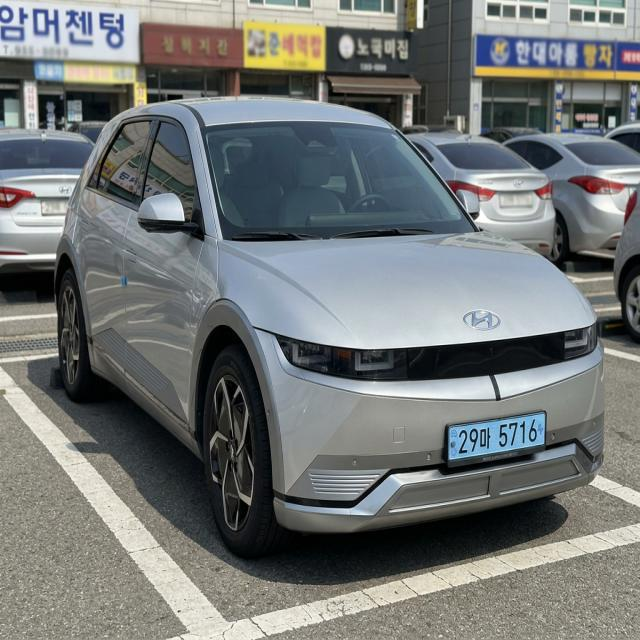car: (428, 404, 557, 479)
carev: (442, 419, 459, 465), (536, 411, 550, 451)
